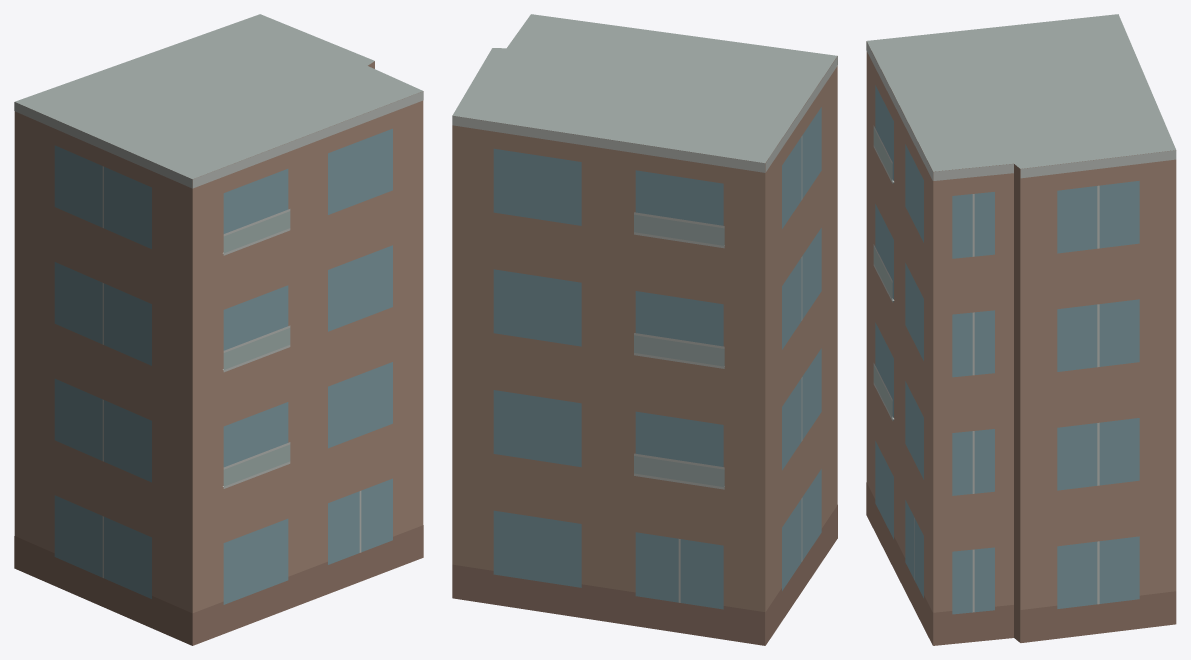
File: survey-upis-33033586.glb
3 views of the same model, side by side, from view 1: azimuth 30°, elevation 25°; view 2: azimuth 150°, elevation 25°; view 3: azimuth 270°, elevation 25° (orthographic). The views are drawn at different scales.
Parts seen in each view (by area): view 1: survey-upis-33033586.tmp; view 2: survey-upis-33033586.tmp; view 3: survey-upis-33033586.tmp.
Part boxes in pixels (left/top/right/bottom): survey-upis-33033586.tmp: left=14, top=14, right=423, bottom=645; survey-upis-33033586.tmp: left=452, top=14, right=837, bottom=645; survey-upis-33033586.tmp: left=866, top=14, right=1176, bottom=645.
Bounding box in the file's own units: 8.67 × 12.15 × 7.2.
